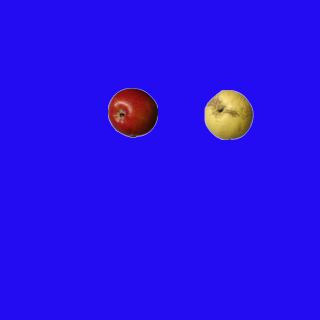Apple Braeburn: (107, 87, 157, 137)
Apple Golden 1: (203, 89, 253, 139)
